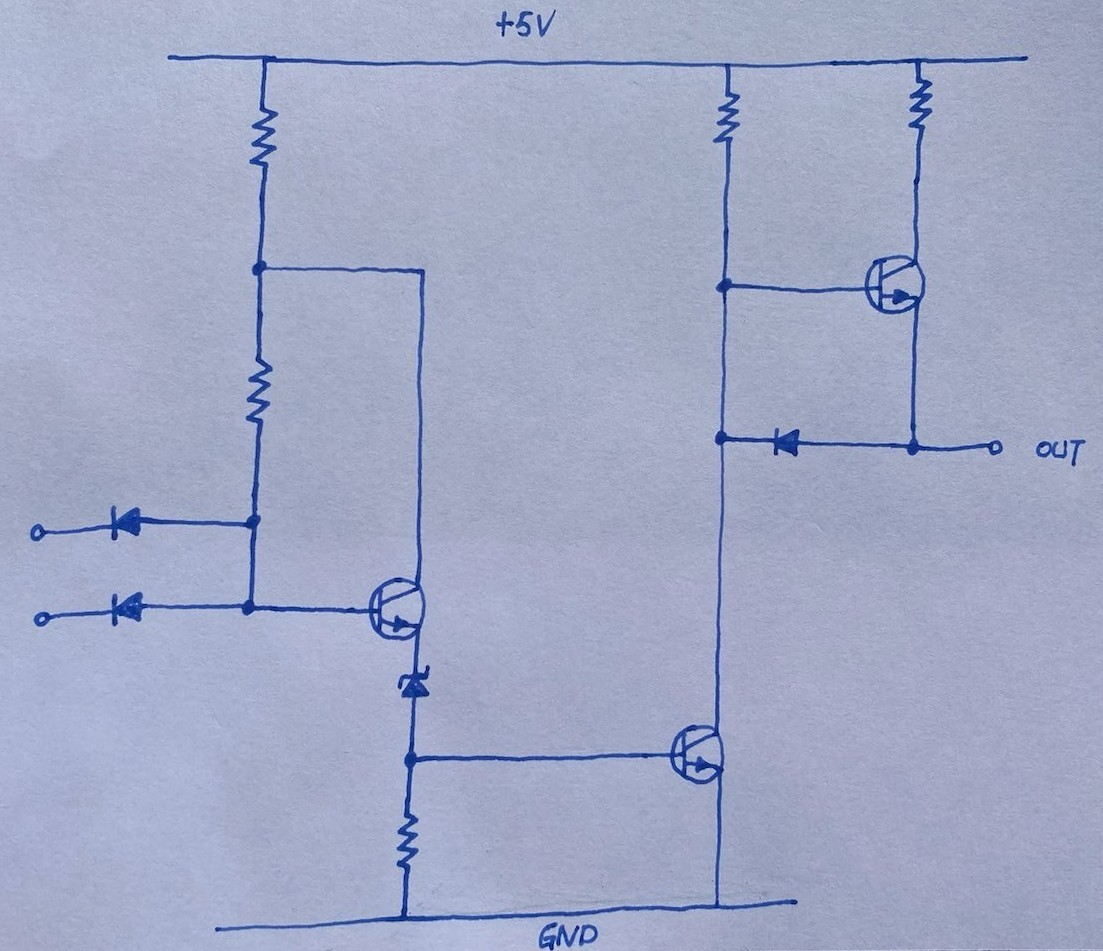diode: (103, 500, 161, 552), (101, 588, 156, 635), (764, 422, 811, 464), (394, 663, 434, 704)
junction: (232, 505, 273, 547), (231, 587, 273, 626), (237, 245, 277, 284), (400, 249, 440, 285), (707, 266, 742, 304), (245, 44, 281, 74), (395, 744, 426, 778), (900, 429, 928, 466), (703, 423, 736, 452), (901, 40, 934, 68), (709, 52, 741, 80), (388, 905, 421, 929), (702, 896, 732, 921)
resistor: (236, 346, 280, 434), (242, 101, 286, 175), (707, 88, 747, 151), (903, 73, 937, 137), (393, 810, 420, 871)
terminal: (961, 427, 1016, 471), (20, 514, 62, 557), (23, 603, 67, 643), (764, 886, 814, 918), (1001, 44, 1044, 74), (146, 45, 190, 74), (202, 918, 243, 944)
text: (491, 4, 566, 40), (1032, 429, 1089, 474), (528, 917, 604, 950)
transistor: (858, 250, 931, 318), (361, 575, 431, 640), (668, 722, 732, 786)
